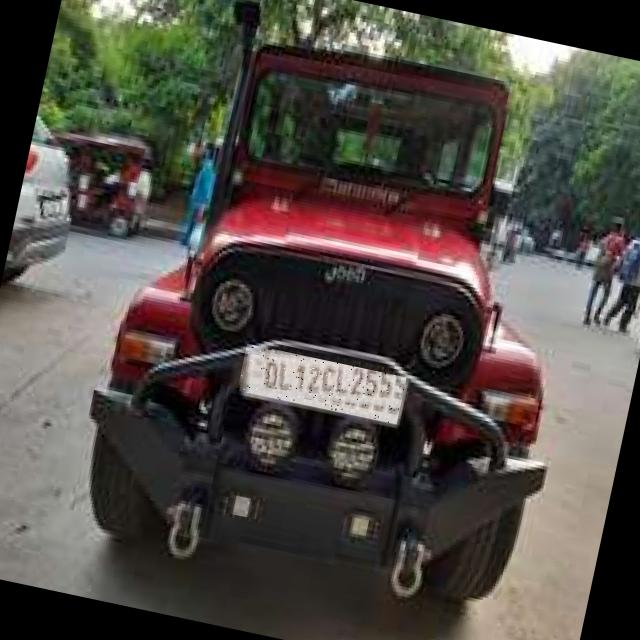Plate: (238, 345, 407, 426)
